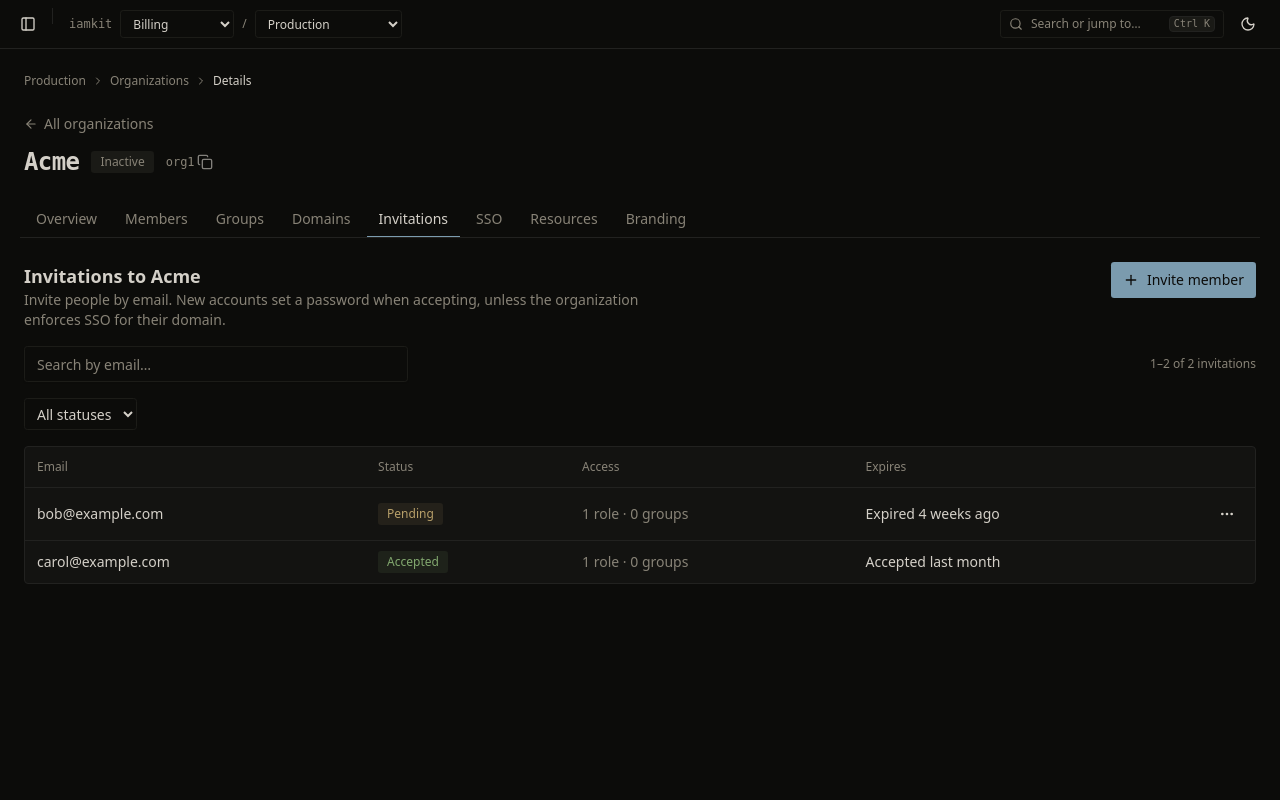
Test case: invites and shows the token once
This screenshot has width=1280, height=800.
Expected: the text "bob@example.com" is shown, x1=37 y1=504 x2=163 y2=522
Click the button "Invite member": (1183, 280) x1=1111 y1=262 x2=1256 y2=298
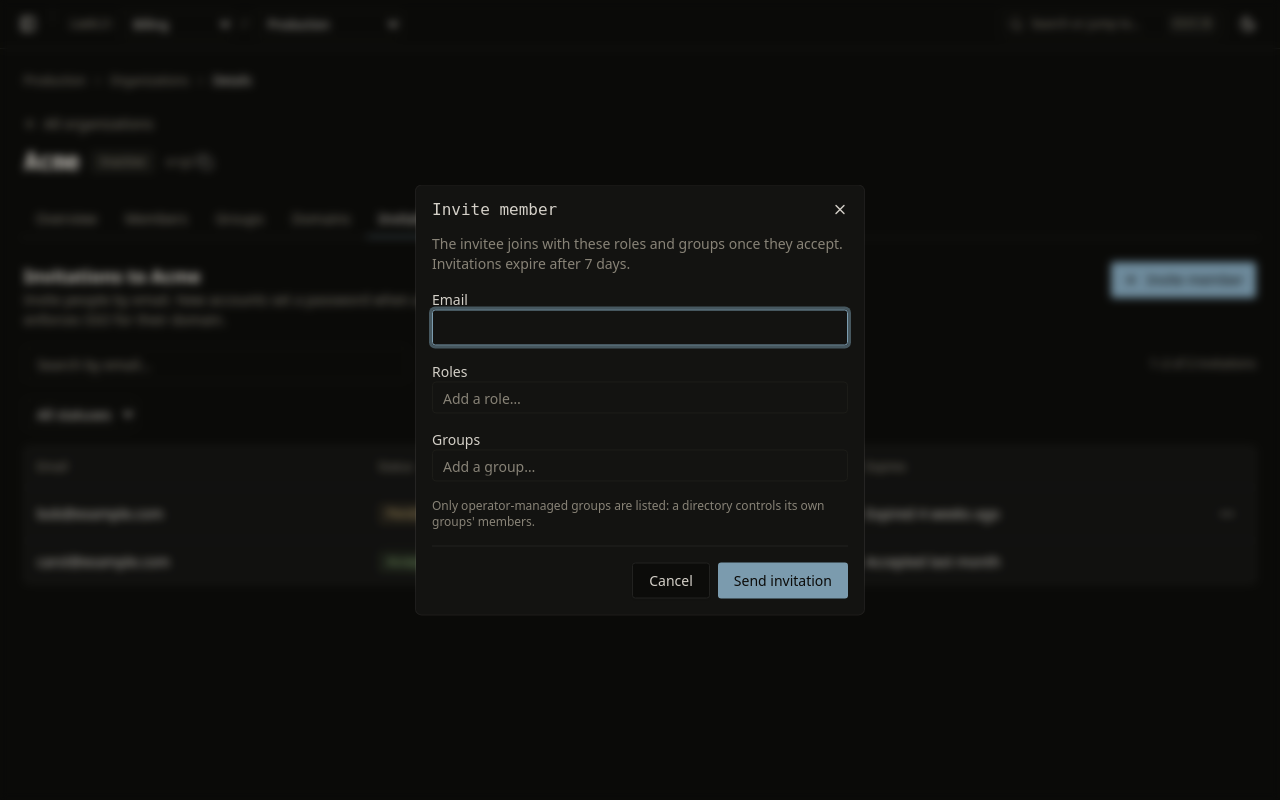
In the field labelled "Email": (640, 328) x1=432 y1=310 x2=848 y2=346, type "dave@example.com"
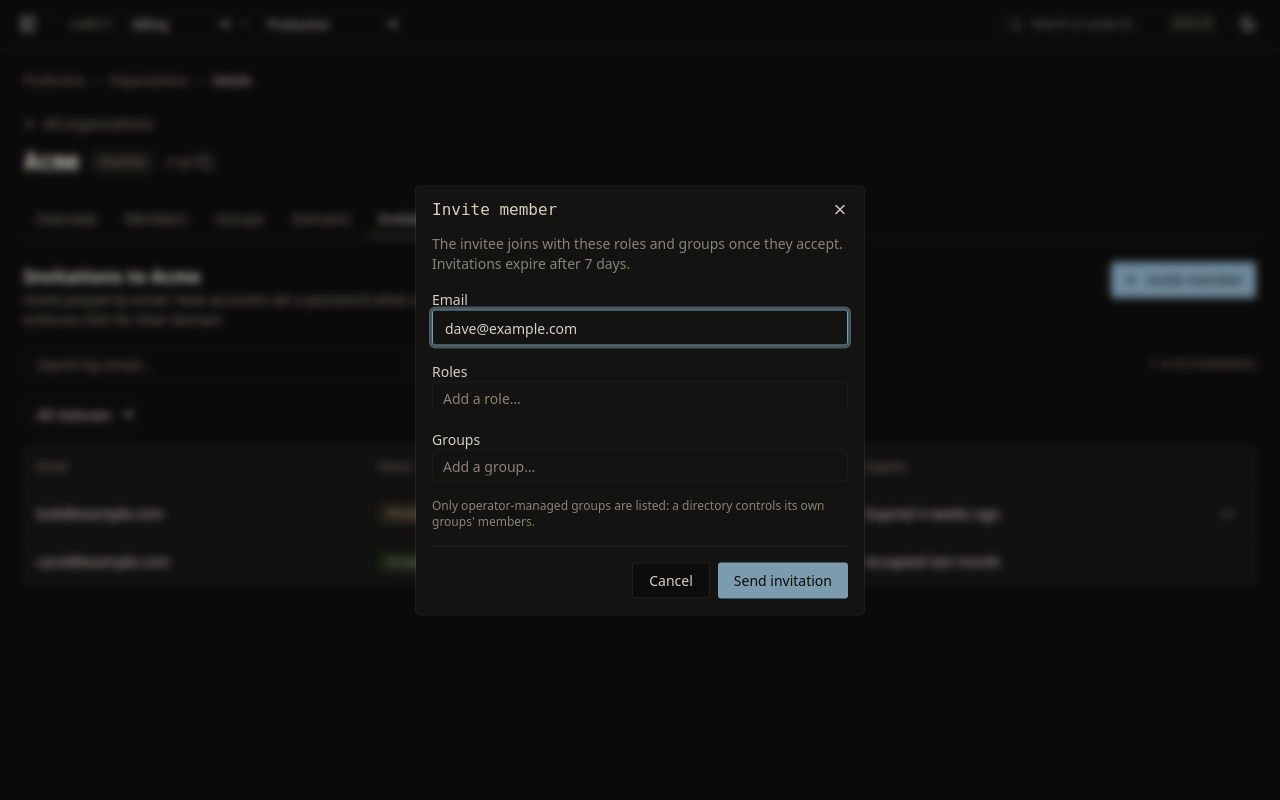
Click the button "Send invitation": (783, 580) x1=718 y1=562 x2=848 y2=598
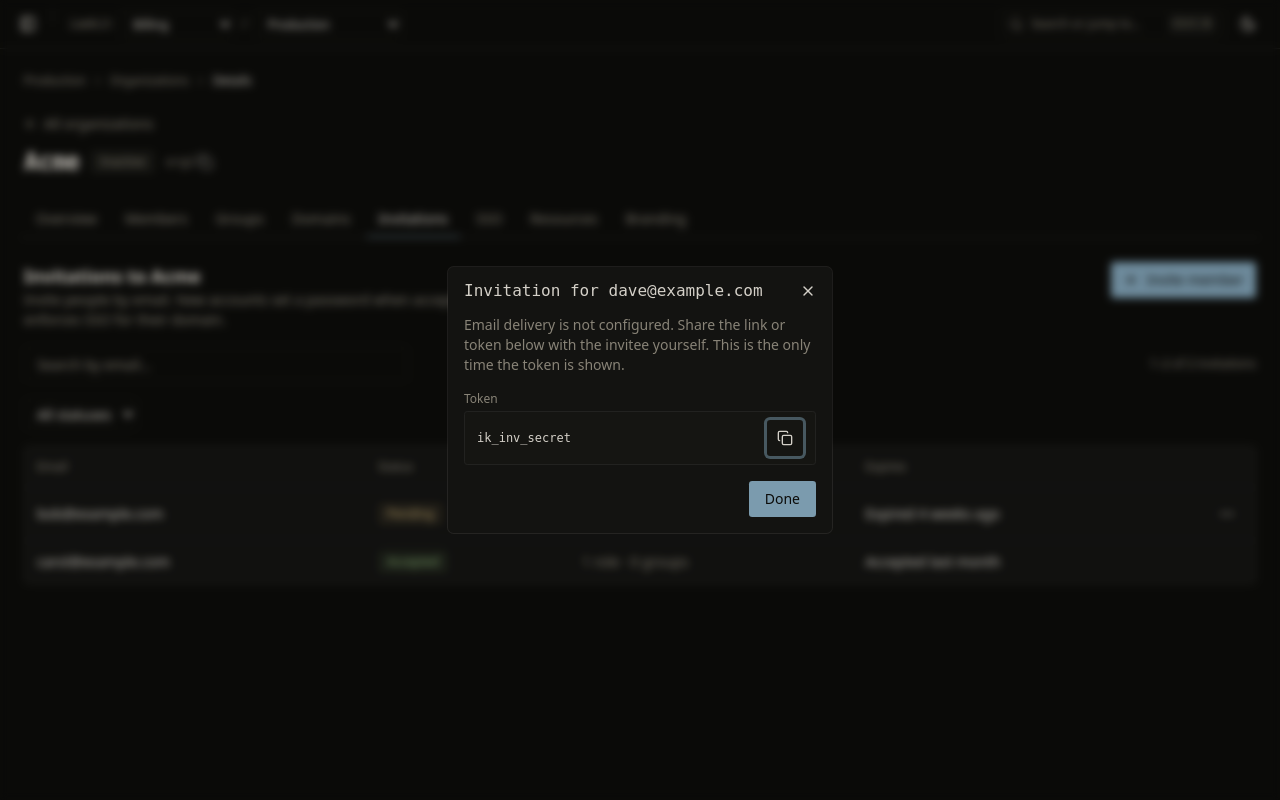
Now the heading "Invitation for dave@example.com" is shown, box x1=464 y1=281 x2=763 y2=300
Now the text "ik_inv_secret" is shown, box x1=477 y1=431 x2=571 y2=445
Now the text "Email delivery is not configured" is shown, box x1=464 y1=315 x2=810 y2=374
